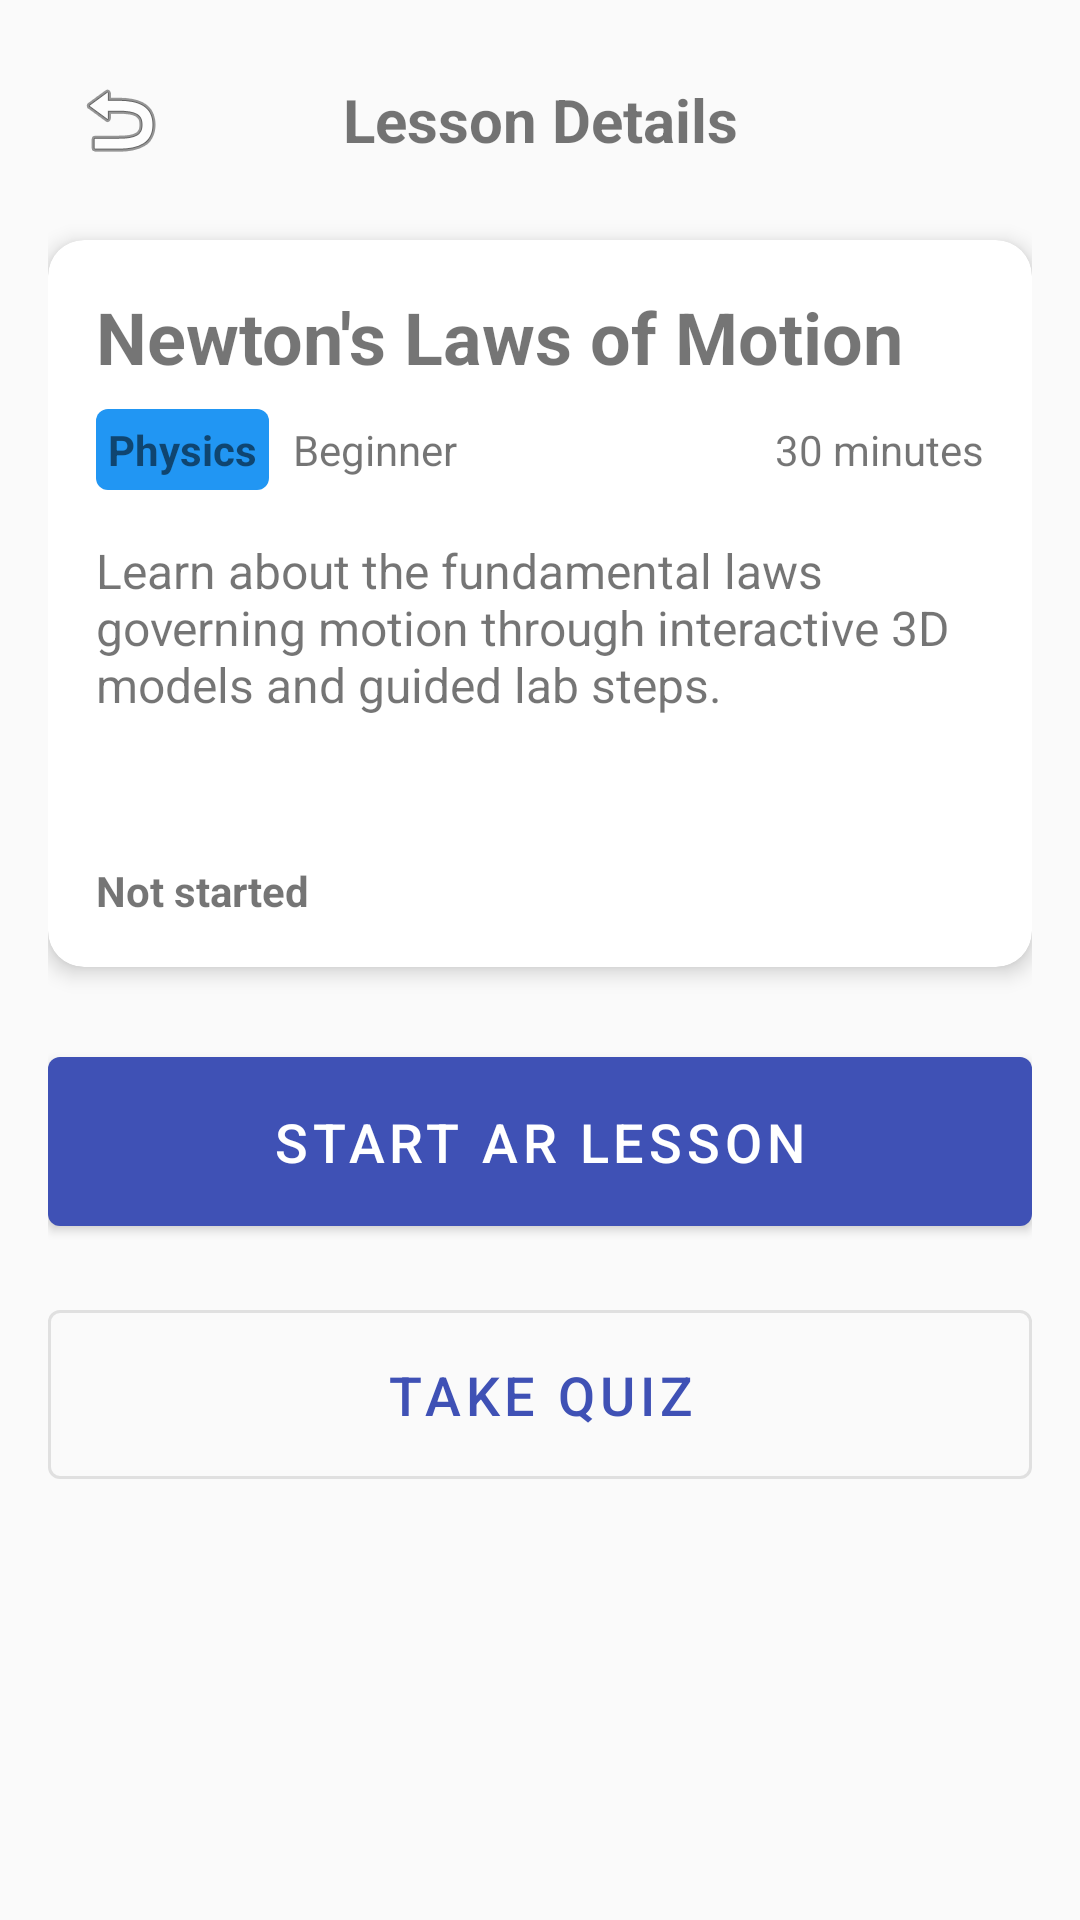

Named icons in this screenshot (1080x1920) and their bounding boxes, (x1=x1, y1=y1, x2=x2, y2=y2):
Back: (x1=87, y1=89, x2=156, y2=152)
